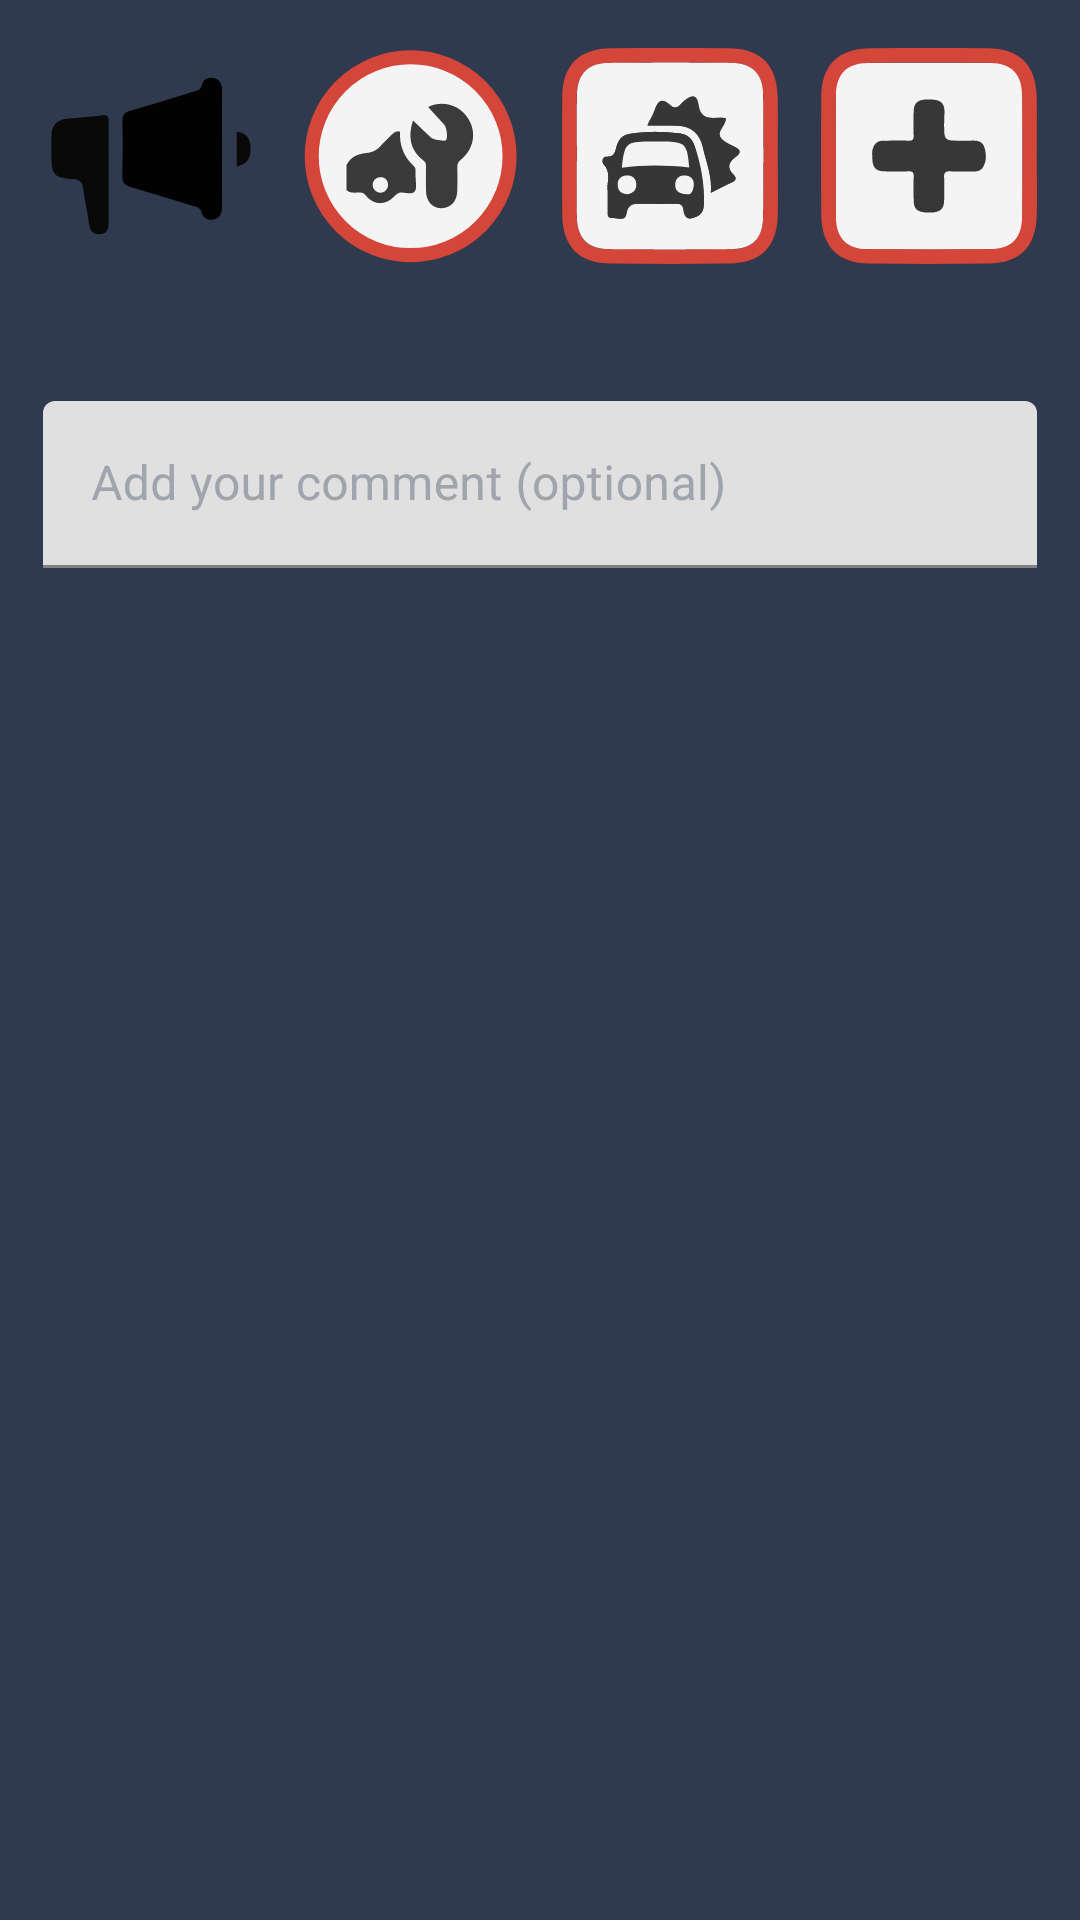

Screen size 1080x1920. Icon name, then its box in pixels as (x1, y1, x2, y2):
ambulance: (821, 48, 1037, 264)
message: (51, 78, 251, 234)
support: (304, 50, 517, 263)
